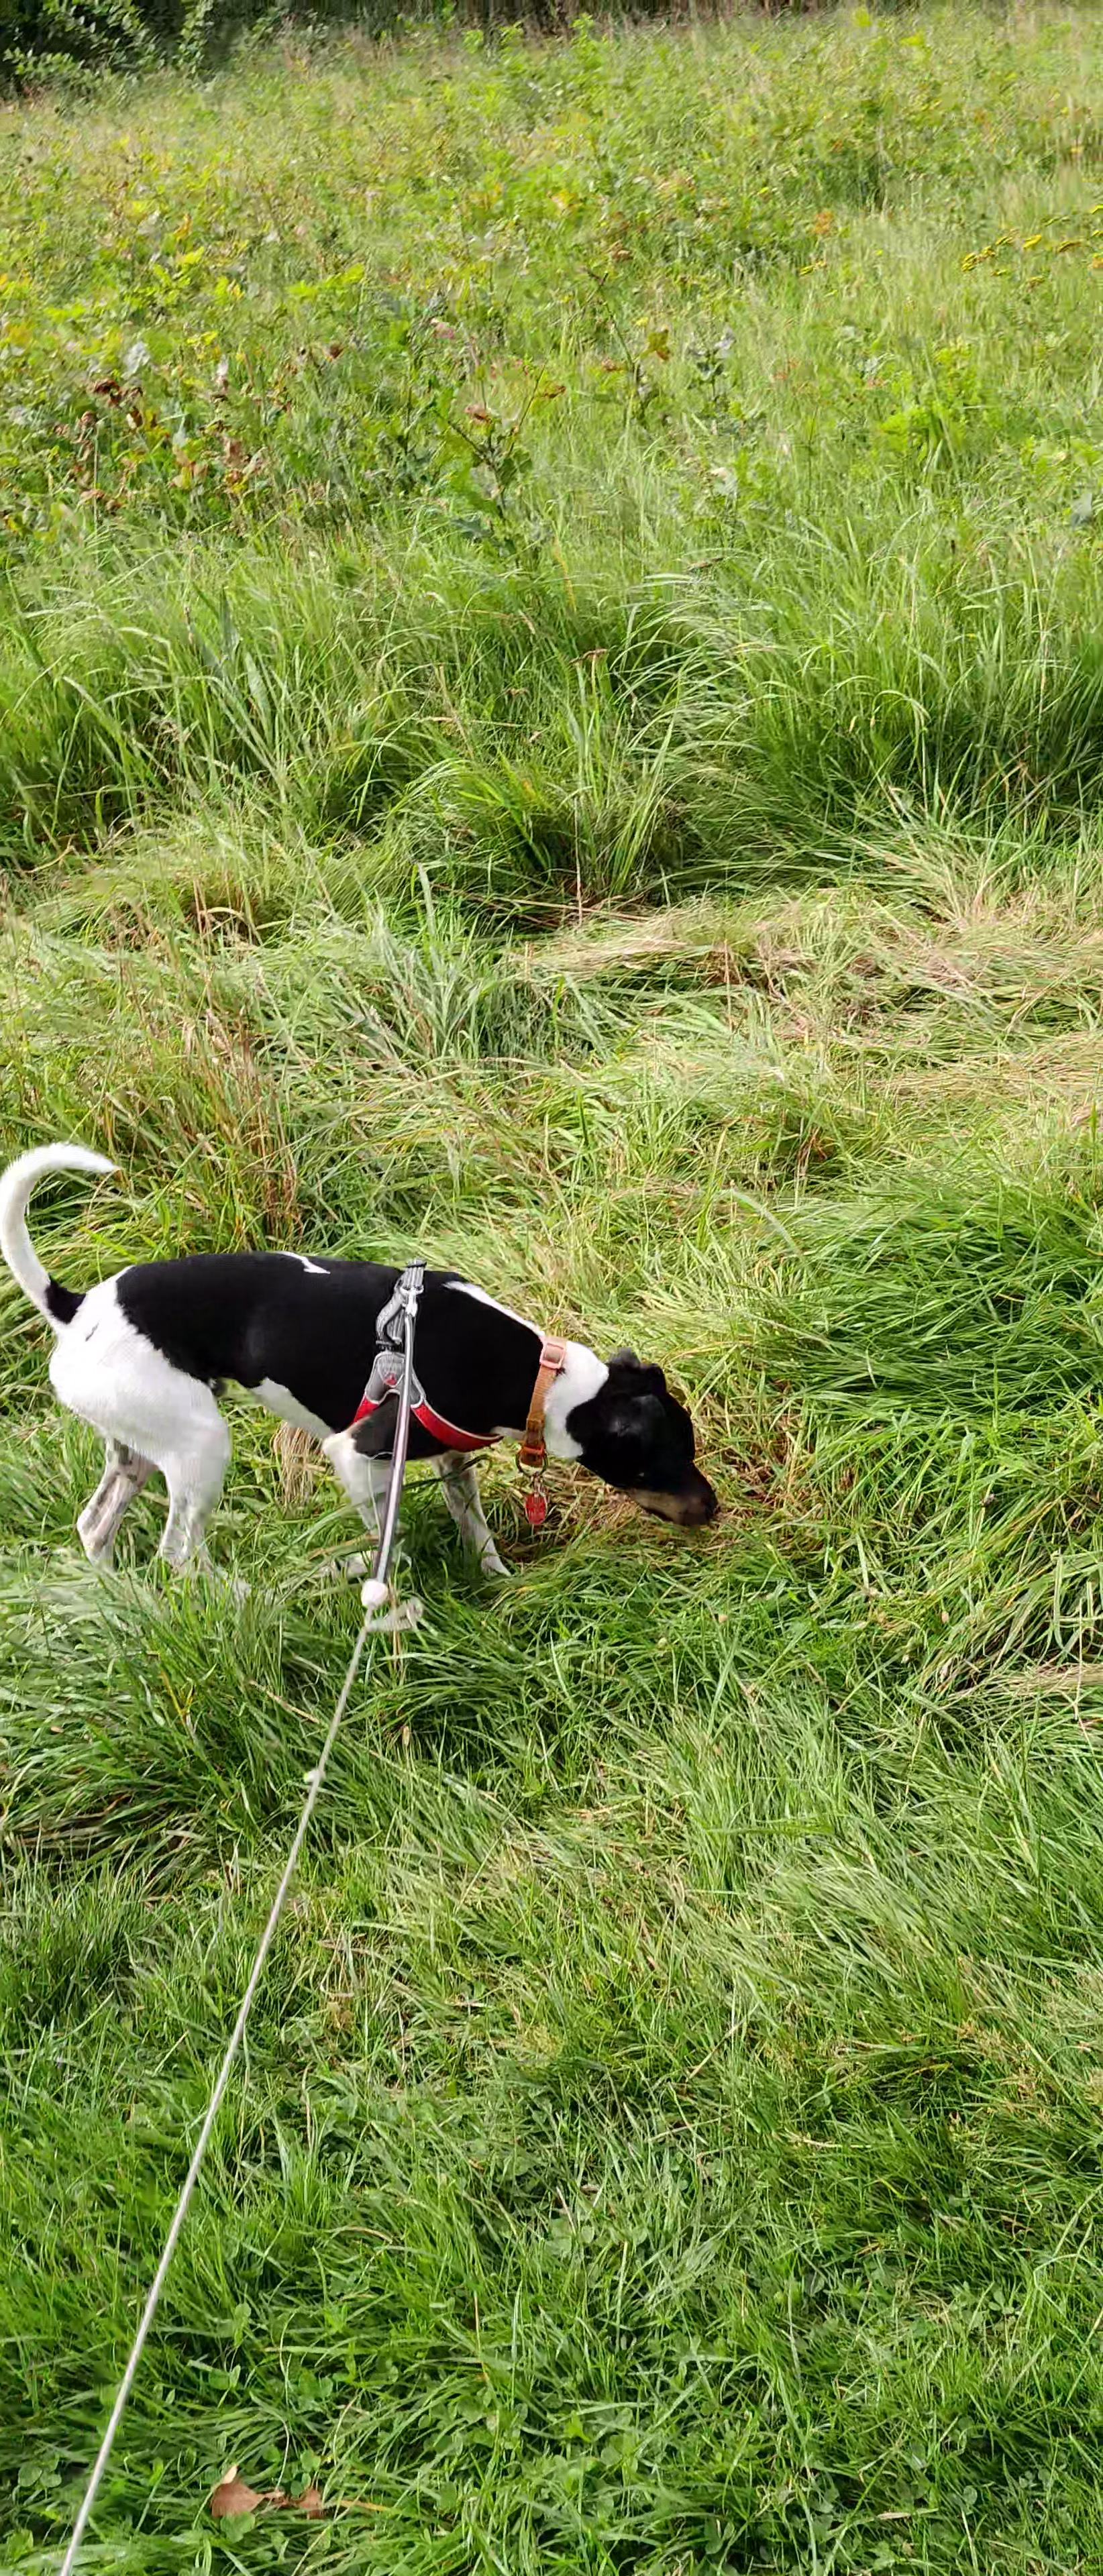Dog: (0, 1134, 723, 1603)
